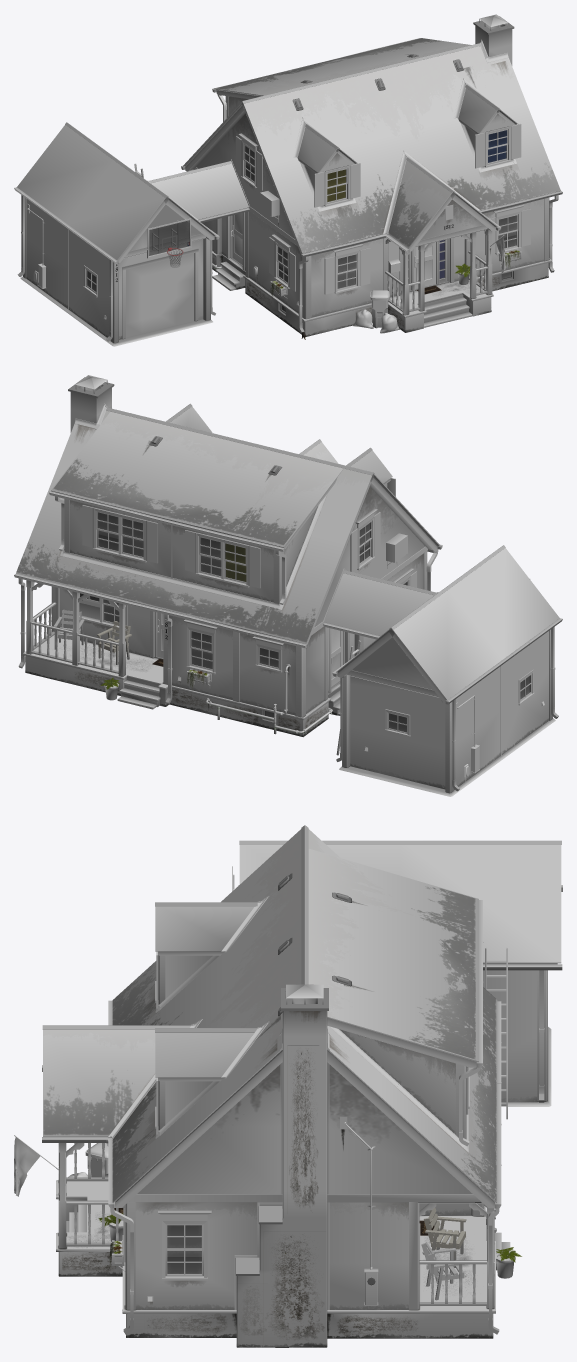
The picture shows the model from 3 angles, top to bottom: view 1: azimuth 30°, elevation 25°; view 2: azimuth 150°, elevation 25°; view 3: azimuth 270°, elevation 25°; orthographic projection. The views are drawn at different scales.
Visible parts, largest first — view 1: american_house_MARK_2; view 2: american_house_MARK_2; view 3: american_house_MARK_2.
Boxes of the visible parts, box(x1,y1,x2,y2) form: american_house_MARK_2: box(14, 14, 562, 346); american_house_MARK_2: box(14, 375, 562, 796); american_house_MARK_2: box(14, 825, 562, 1347).
Bounding box in the file's own units: 14.94 × 7.61 × 10.67.
